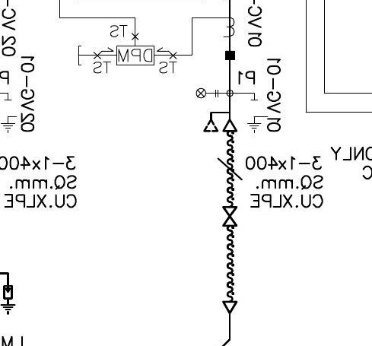22_gs: (246, 98, 268, 133)
22_ll: (195, 87, 219, 99)
DPM: (115, 45, 156, 67)
terminator_single: (221, 300, 238, 314)
terminator_splicing_kits: (222, 206, 238, 227)
terminator_w_future: (203, 111, 238, 133)
